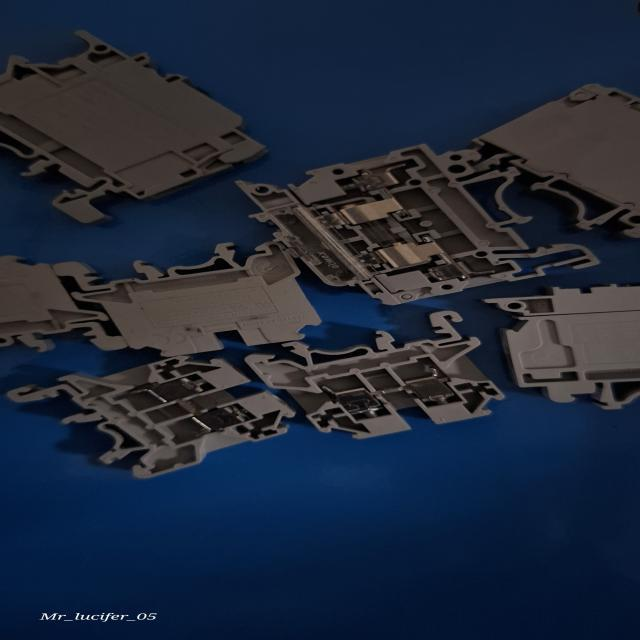Pass: (0, 352, 294, 480), (264, 306, 508, 456)
